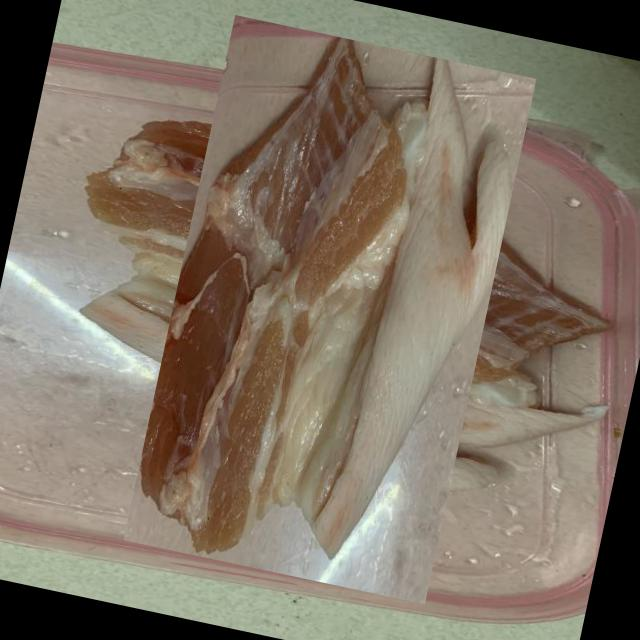chicken: (79, 58, 580, 560)
